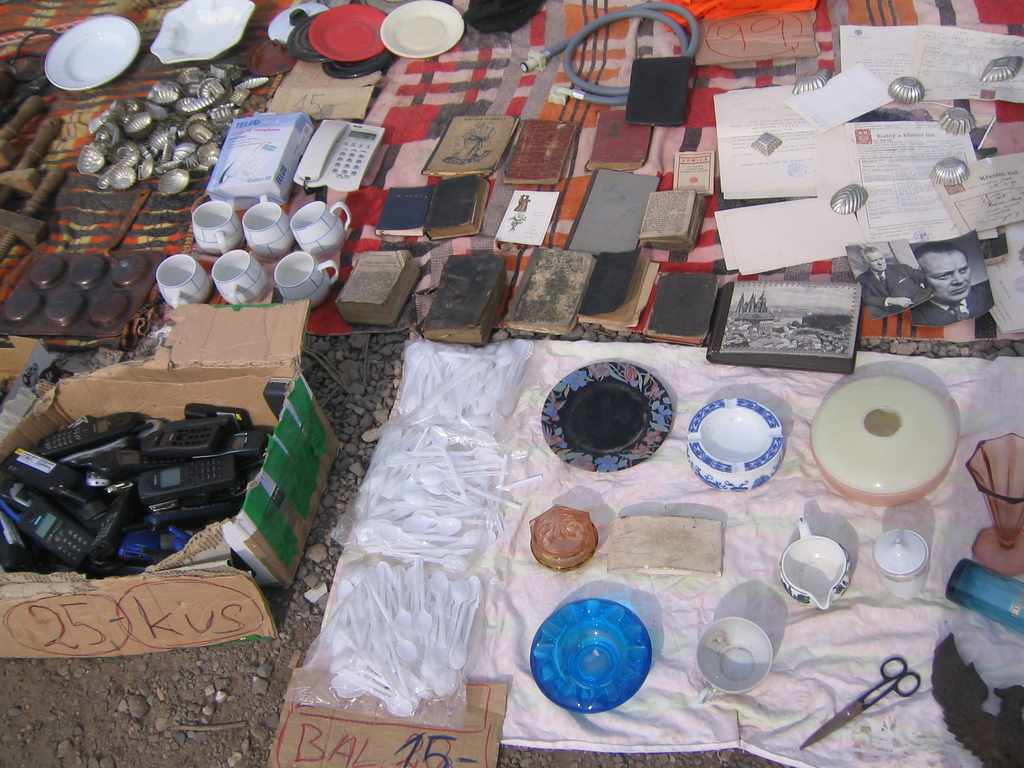plate: (540, 360, 672, 470), (42, 13, 140, 94)
